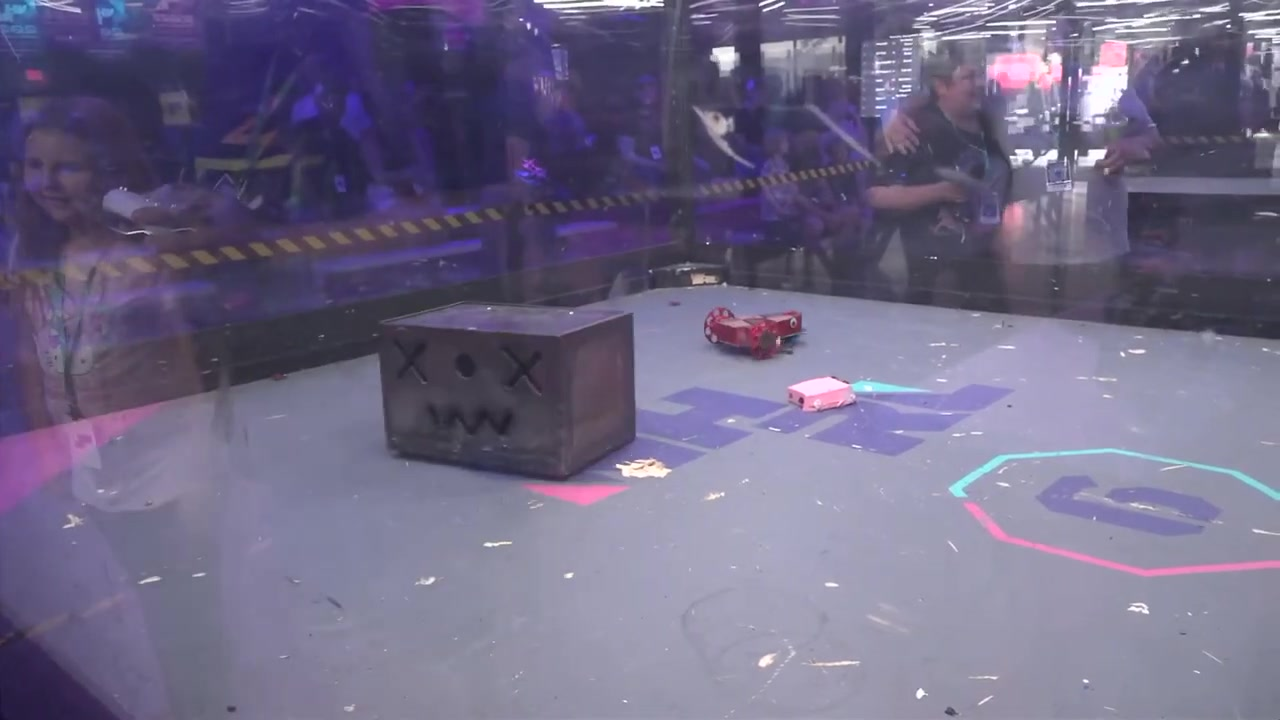combatbot: (702, 306, 805, 360)
housebot: (379, 298, 639, 481)
minibot: (785, 376, 859, 412)
